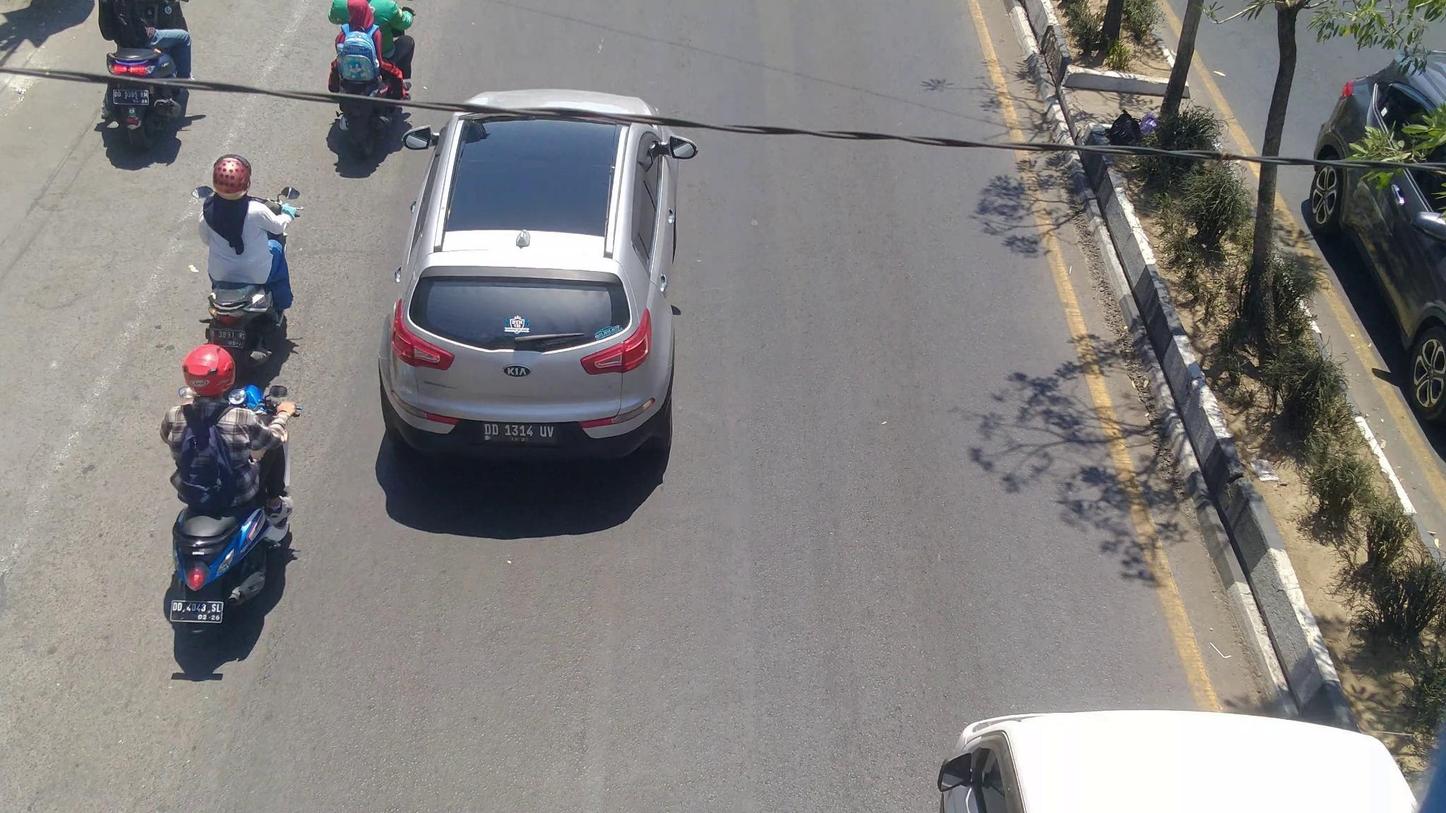Helmet: (174, 342, 240, 401), (206, 147, 258, 205)
bike: (156, 378, 297, 643), (187, 178, 301, 364), (327, 0, 418, 156), (97, 0, 192, 149)
number-plate: (169, 600, 225, 621), (204, 324, 249, 348)
rider: (164, 343, 297, 527), (199, 149, 298, 316), (334, 2, 411, 105)
